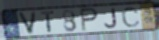8: (61, 9, 78, 33)
C: (120, 7, 141, 28)
J: (104, 7, 119, 30)
P: (80, 7, 100, 33)
T: (40, 10, 56, 34)
V: (16, 10, 38, 36)
